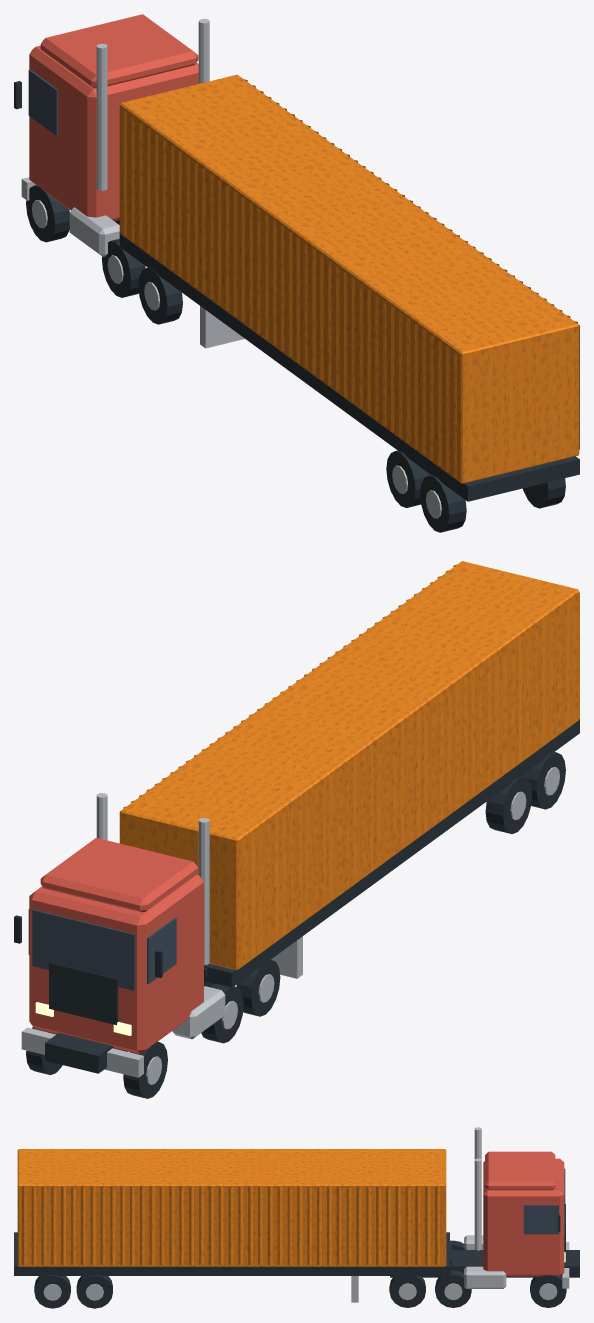
File: truck.glb
3 views of the same model, one above another, from view 1: azimuth 30°, elevation 25°; view 2: azimuth 150°, elevation 25°; view 3: azimuth 270°, elevation 25° (orthographic). The views are drawn at different scales.
Parts seen in each view (by area): view 1: harbor_truck; view 2: harbor_truck; view 3: harbor_truck.
Boxes of the visible parts, x1,y1,x2,y2 form: harbor_truck: [14, 14, 579, 532]; harbor_truck: [14, 561, 579, 1098]; harbor_truck: [14, 1127, 579, 1308].
Bounding box in the file's own units: 3.02 × 4.6 × 16.1.
Materials: 7 (2 with a texture image).
